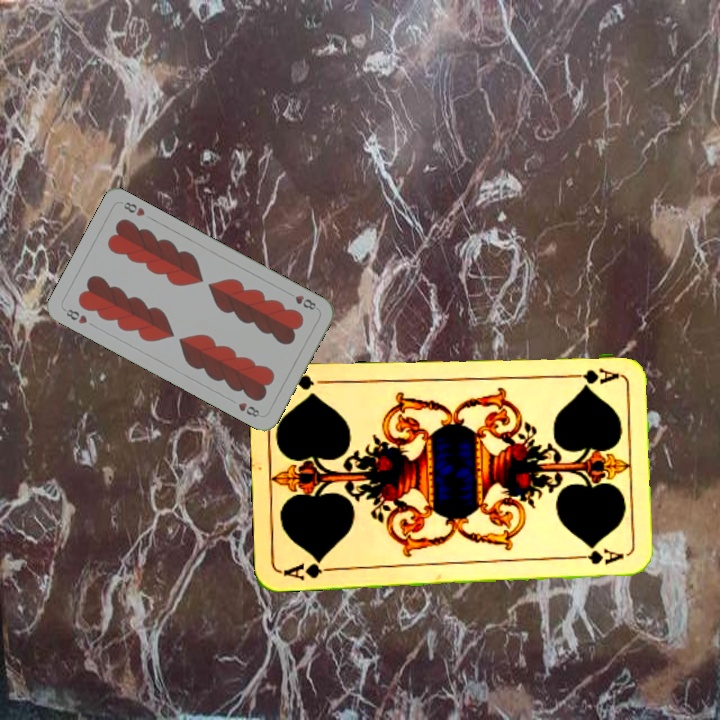GA: (280, 555, 338, 583), (562, 363, 622, 387)
H8: (283, 288, 319, 313), (60, 305, 90, 327)
